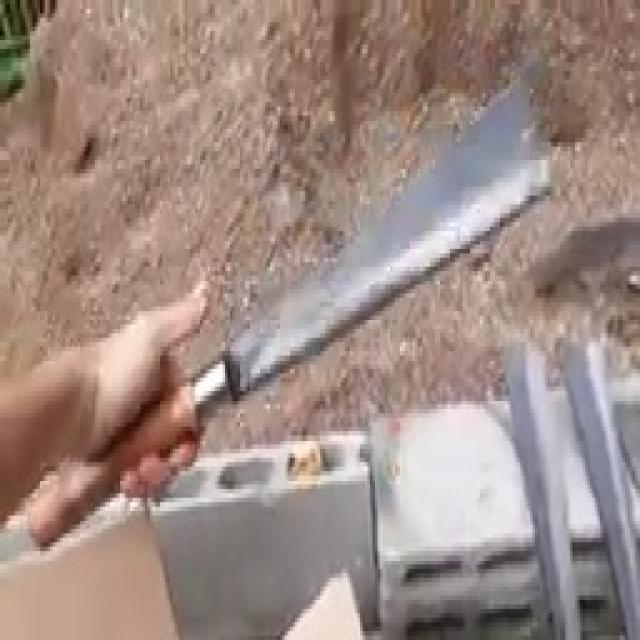eto: (26, 65, 556, 554)
